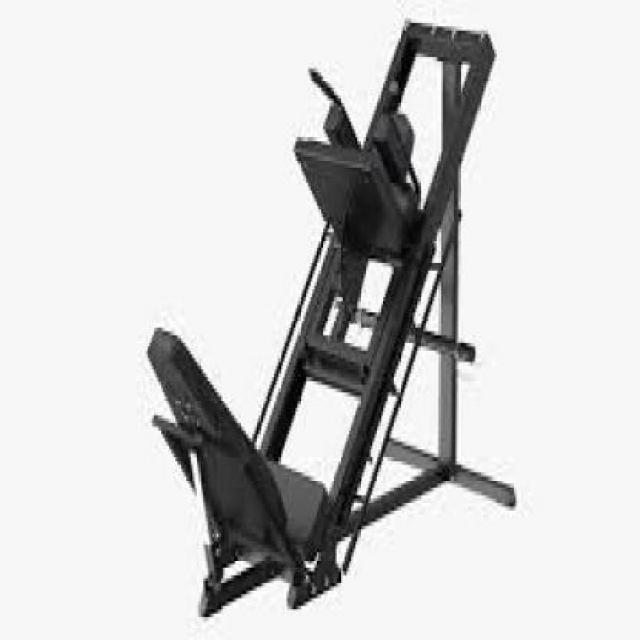leg press: (140, 0, 529, 640)
